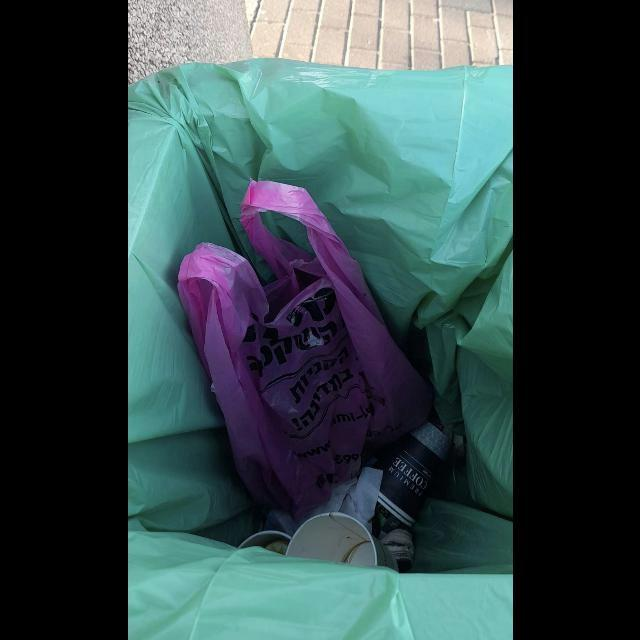plastic_bag: (176, 179, 433, 520)
